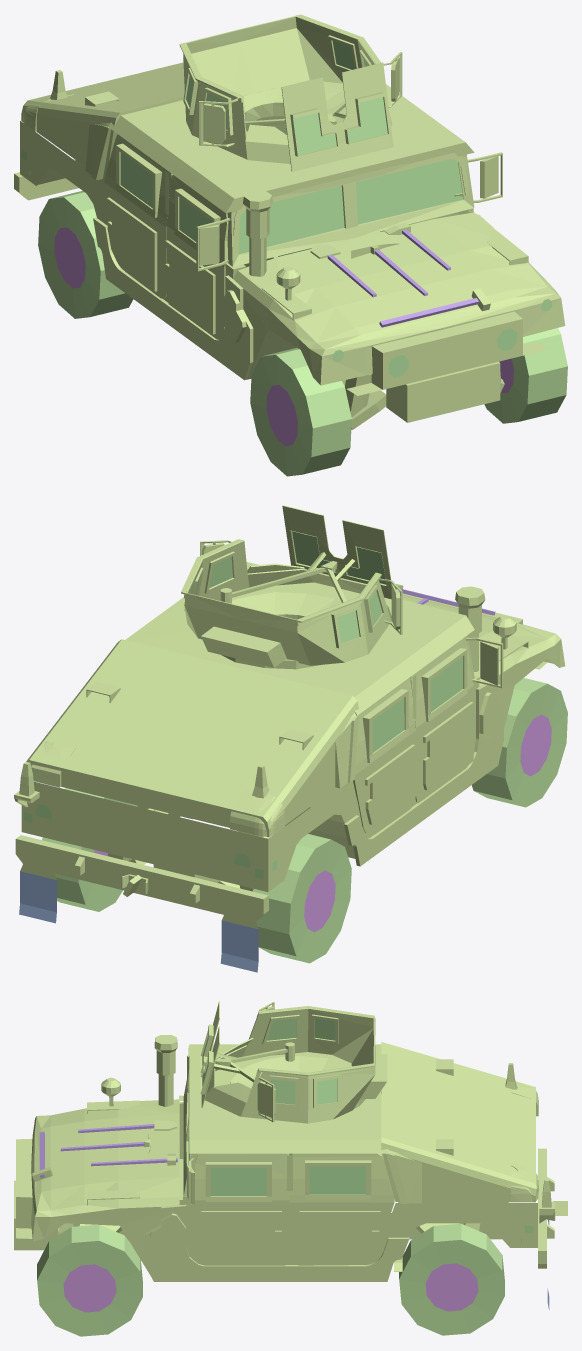
The model's file is land-wheeled-humvee-machinegun.glb.
3 renders of one model, top to bottom at view 1: azimuth 30°, elevation 25°; view 2: azimuth 150°, elevation 25°; view 3: azimuth 270°, elevation 25°, orthographic. The views are drawn at different scales.
Parts seen in each view (by area): view 1: CC_WHL_05_Turret_01, CC_WHL_05_Turret, CC_WHL_05_Fastback_RearRight_1, CC_WHL_05_Fastback_RearRight_3, CC_WHL_05_Fastback_RearRight_0; view 2: CC_WHL_05_Turret_01, CC_WHL_05_Turret, CC_WHL_05_Fastback_RearRight_3, CC_WHL_05_Fastback_RearRight_1, CC_WHL_05_Fastback_RearRight_2; view 3: CC_WHL_05_Turret_01, CC_WHL_05_Turret, CC_WHL_05_Fastback_RearRight_0, CC_WHL_05_Fastback_RearRight_2.
Boxes of the visible parts, x1=… form: CC_WHL_05_Turret_01: x1=14, y1=62, x2=565, y2=429; CC_WHL_05_Turret: x1=179, y1=14, x2=402, y2=171; CC_WHL_05_Fastback_RearRight_1: x1=250, y1=348, x2=351, y2=476; CC_WHL_05_Fastback_RearRight_3: x1=38, y1=190, x2=133, y2=318; CC_WHL_05_Fastback_RearRight_0: x1=484, y1=328, x2=567, y2=423; CC_WHL_05_Turret_01: x1=14, y1=562, x2=565, y2=972; CC_WHL_05_Turret: x1=181, y1=505, x2=402, y2=667; CC_WHL_05_Fastback_RearRight_3: x1=252, y1=834, x2=351, y2=963; CC_WHL_05_Fastback_RearRight_1: x1=472, y1=678, x2=567, y2=807; CC_WHL_05_Fastback_RearRight_2: x1=42, y1=788, x2=137, y2=911; CC_WHL_05_Turret_01: x1=14, y1=1035, x2=567, y2=1310; CC_WHL_05_Turret: x1=200, y1=1001, x2=387, y2=1123; CC_WHL_05_Fastback_RearRight_0: x1=37, y1=1224, x2=142, y2=1336; CC_WHL_05_Fastback_RearRight_2: x1=399, y1=1223, x2=504, y2=1335.
Bounding box in the file's own units: 3.07 × 2.99 × 5.73.
